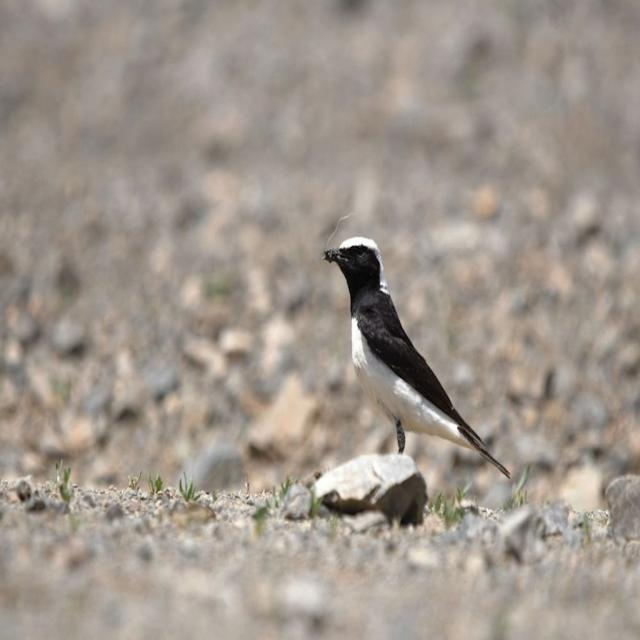bird: (313, 228, 520, 486)
